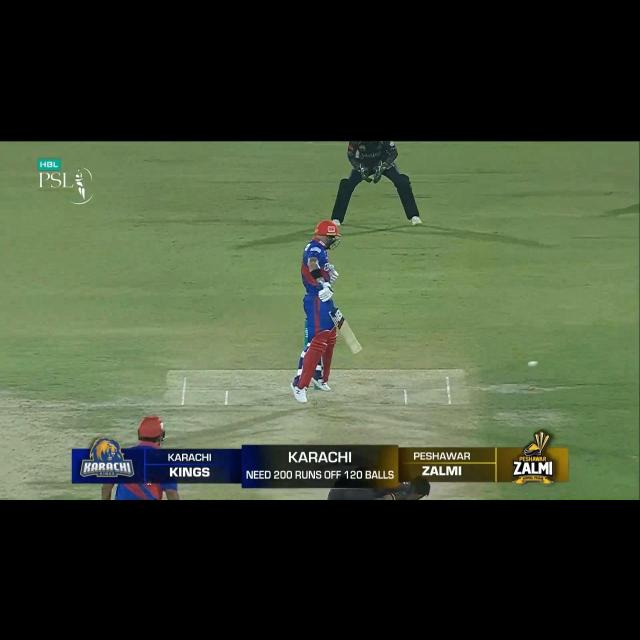bat: (332, 312, 362, 354)
toe: (349, 340, 365, 356)
